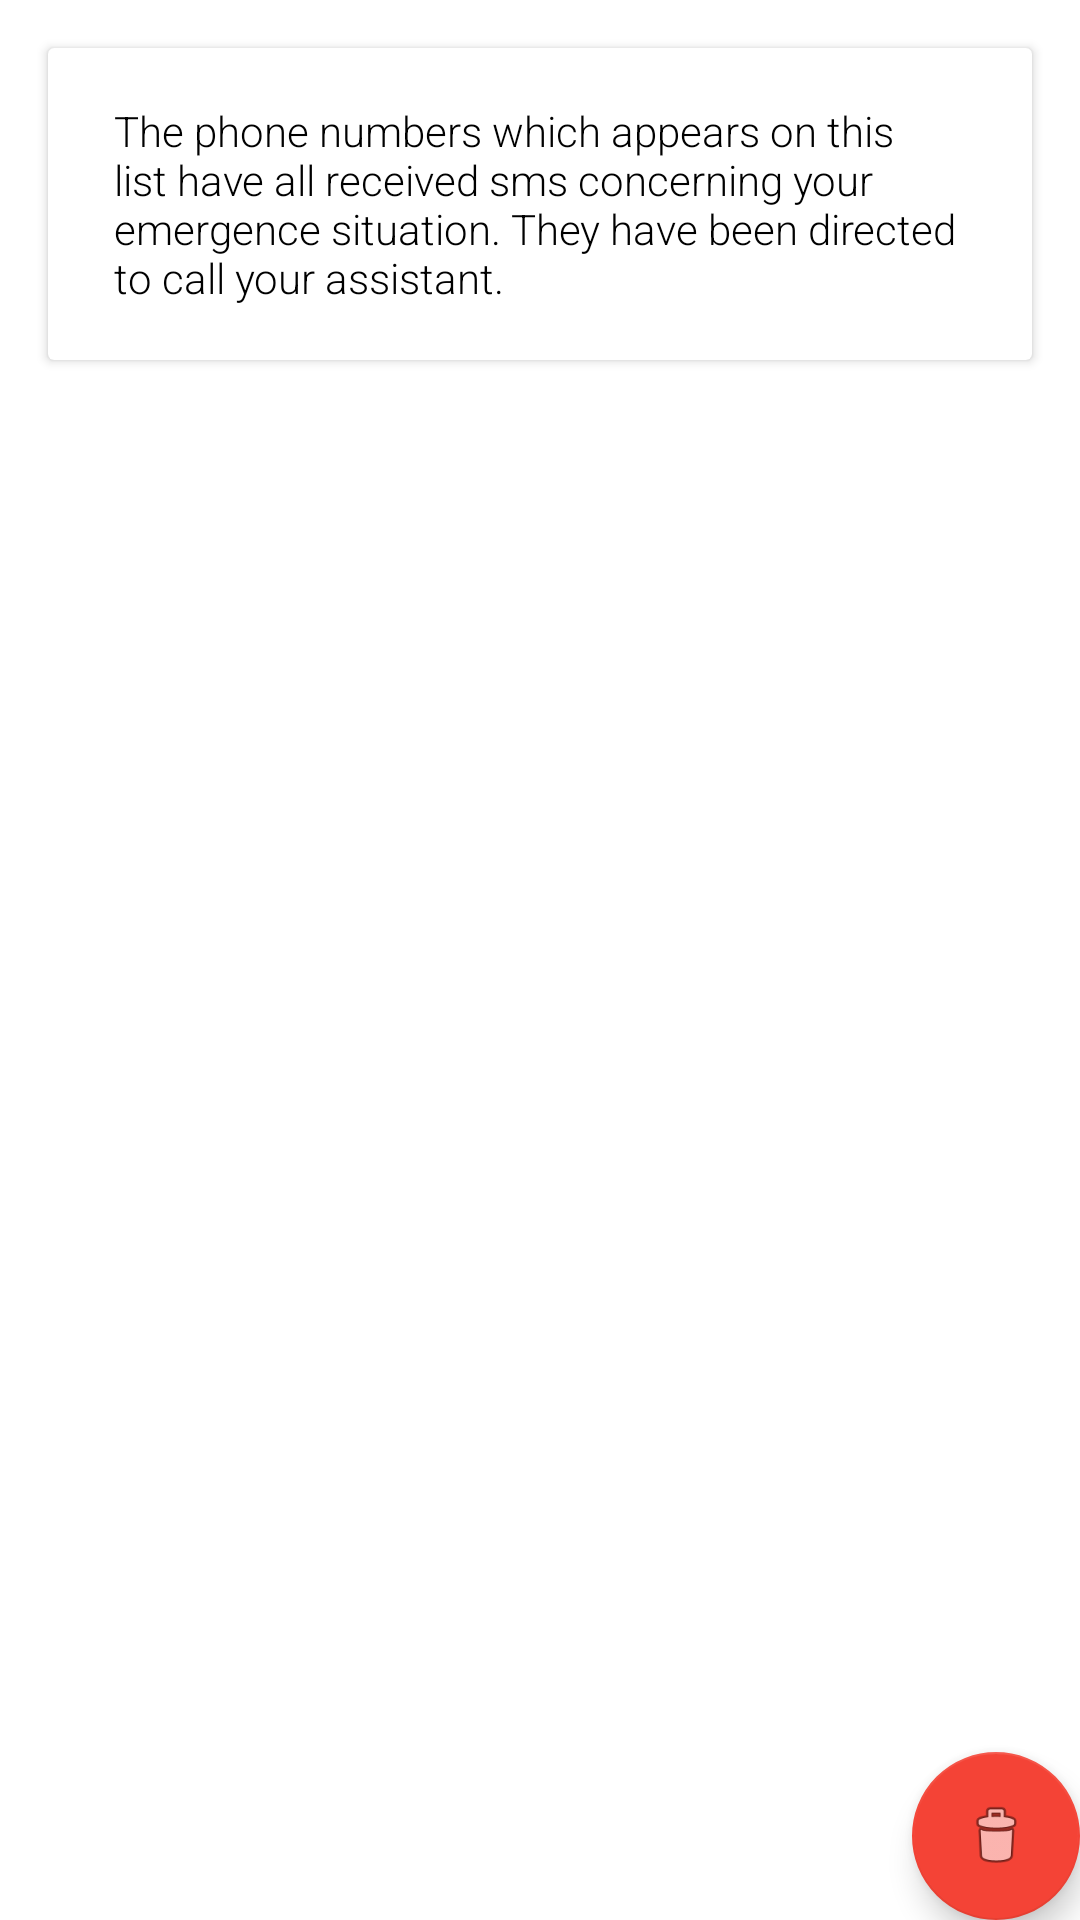

Locate icon controls on the screen. Image size 1080*1920, boxes as (x1, y1, x2, y2).
delete: (912, 1752, 1080, 1920)
